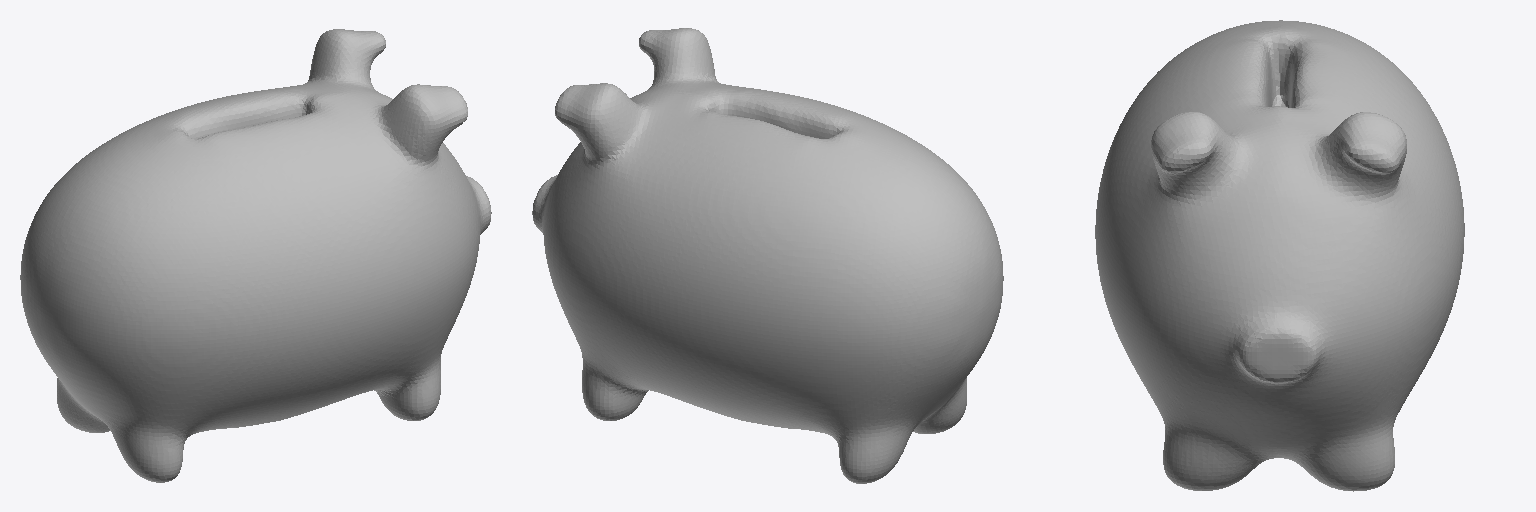
robot.urdf — root:
<robot name="root">
  <link name="link_001">
    <visual>
      <origin xyz="0 0 0" rpy="0 0 0"/>
      <geometry>
        <mesh filename="piggybank.obj" scale="1.5000E+00 1.5000E+00 1.5000E+00"/>
      </geometry>
      <material name="">
        <color rgba="7.50E-01 7.50E-01 7.50E-01 1"/>
      </material>
    </visual>
    <collision>
      <origin xyz="0 0 0" rpy="0 0 0"/>
      <geometry>
        <mesh filename="piggybank.obj" scale="1.5000E+00 1.5000E+00 1.5000E+00"/>
      </geometry>
    </collision>
    <inertial>
      <mass value="0.16"/> <!-- 质量：0.1kg -->
    </inertial>
  </link>
</robot>

--- Render facts (derived) ---
Views: 3 orthographic renders of the robot side by side, from view 1: azimuth 30°, elevation 25°; view 2: azimuth 150°, elevation 25°; view 3: azimuth 270°, elevation 25°.
Robot: root — 1 links, 0 joints (none); root link link_001; default pose: all joints at 0.
Visible links, largest first — view 1: link_001; view 2: link_001; view 3: link_001.
Link boxes in pixels (box(x1,y1,x2,y2)): link_001: box(20, 29, 491, 482); link_001: box(532, 28, 1003, 483); link_001: box(1095, 20, 1464, 491).
Size in the robot's own frame: 0.2814 by 0.1813 by 0.204 metres.
Meshes: 1 distinct files referenced, 1 mesh visuals loaded (1 OBJ).
